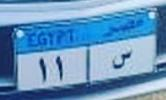1: (37, 57, 48, 86), (55, 53, 65, 81)
seen: (110, 50, 136, 72)
